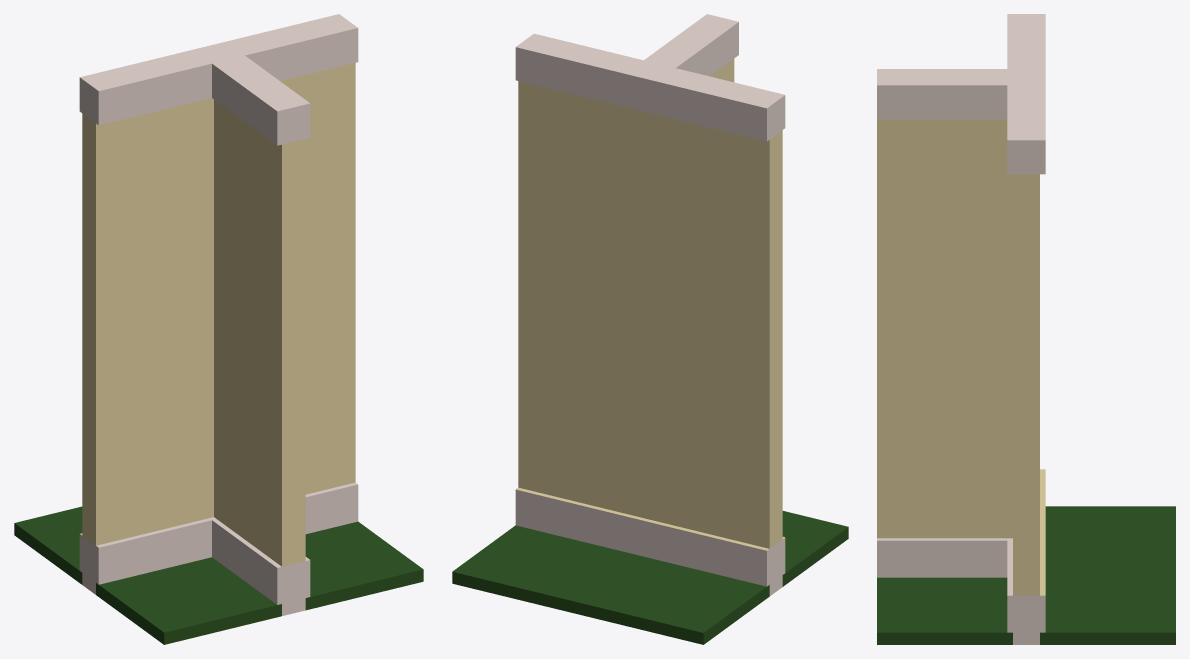
File: Two Sided Interior Corner.fbx
The picture shows the model from 3 angles, left to right: view 1: azimuth 30°, elevation 25°; view 2: azimuth 150°, elevation 25°; view 3: azimuth 270°, elevation 25°; orthographic projection. The views are drawn at different scales.
Visible parts, largest first — view 1: Two Sided Interior Corner; view 2: Two Sided Interior Corner; view 3: Two Sided Interior Corner.
Part boxes in pixels (<box>): Two Sided Interior Corner: <box>14,14,423,644</box>; Two Sided Interior Corner: <box>452,14,848,644</box>; Two Sided Interior Corner: <box>877,14,1175,644</box>.
Bounding box in the file's own units: 110 × 205 × 110.
